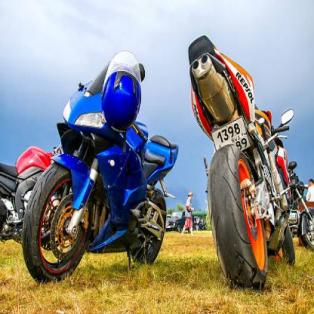Motocicleta: (20, 49, 173, 284), (182, 34, 304, 291)
